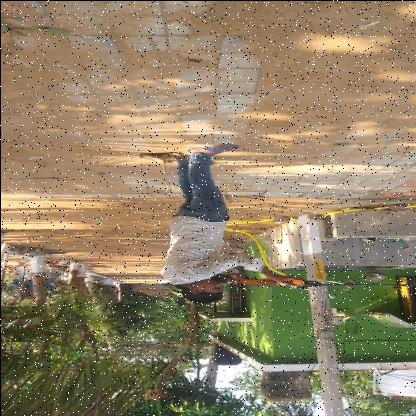rifle: (208, 271, 414, 289)
